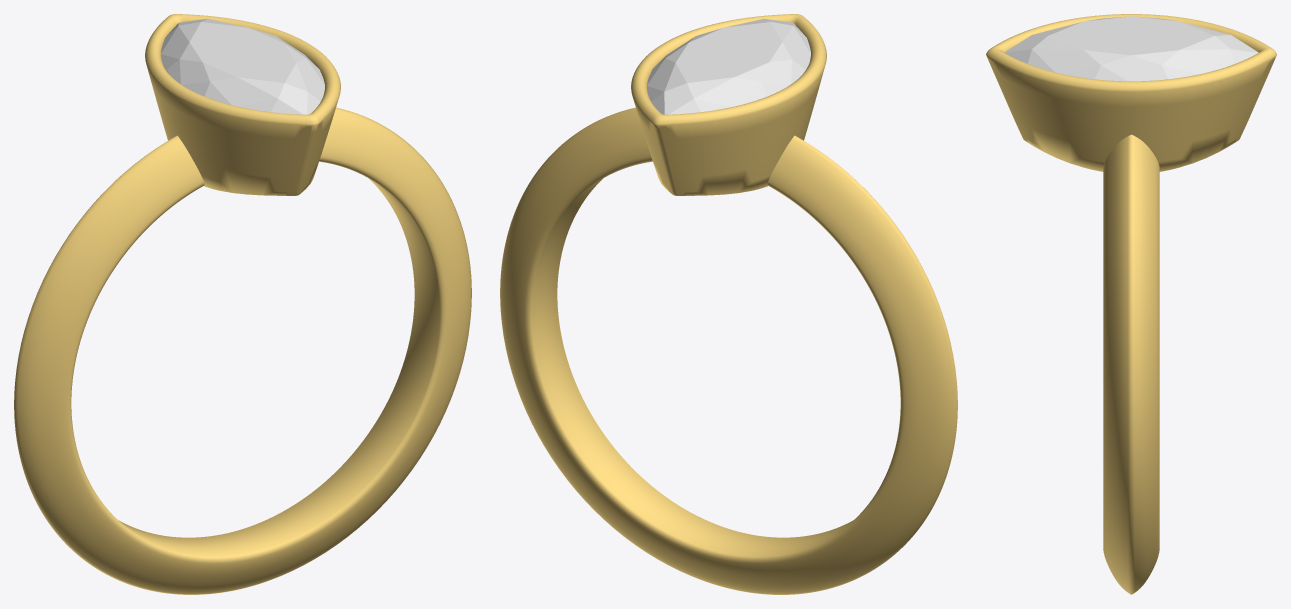
Rendered from diamond-marquise-yellowgold-bezelset-knifeedge-nosidestones.glb.
3 renders of one model, left to right at view 1: azimuth 30°, elevation 25°; view 2: azimuth 150°, elevation 25°; view 3: azimuth 270°, elevation 25°, orthographic.
Visible parts, largest first — view 1: metal.005, stone; view 2: metal.005, stone; view 3: metal.005, stone.
Boxes of the visible parts, left/top/right/bottom form: metal.005: left=14, top=14, right=471, bottom=594; stone: left=161, top=18, right=324, bottom=114; metal.005: left=500, top=14, right=957, bottom=594; stone: left=647, top=18, right=810, bottom=114; metal.005: left=986, top=14, right=1276, bottom=594; stone: left=1004, top=16, right=1258, bottom=81.
Bounding box in the file's own units: 20.49 × 22.93 × 11.31.
